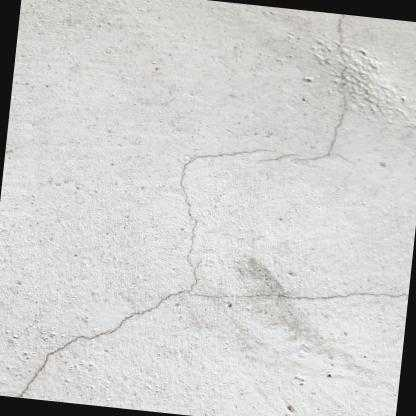crack: (13, 257, 408, 397), (175, 147, 270, 261), (293, 13, 347, 160), (257, 152, 293, 162)
